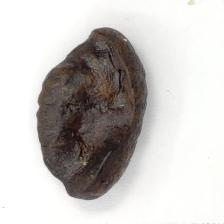NG: (32, 24, 138, 130), (35, 134, 114, 202)
